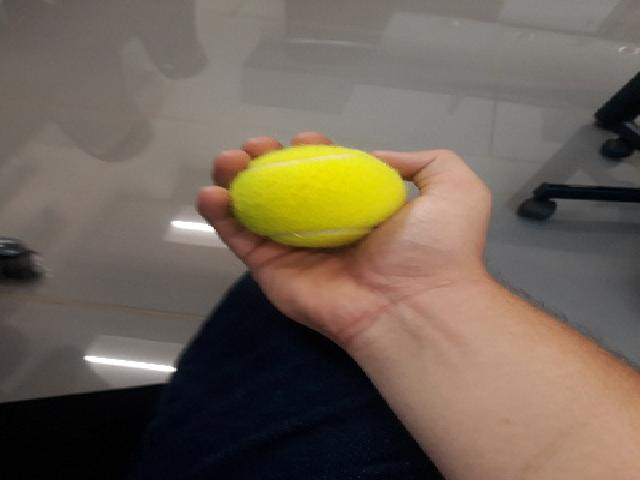Ball: (230, 145, 406, 248)
